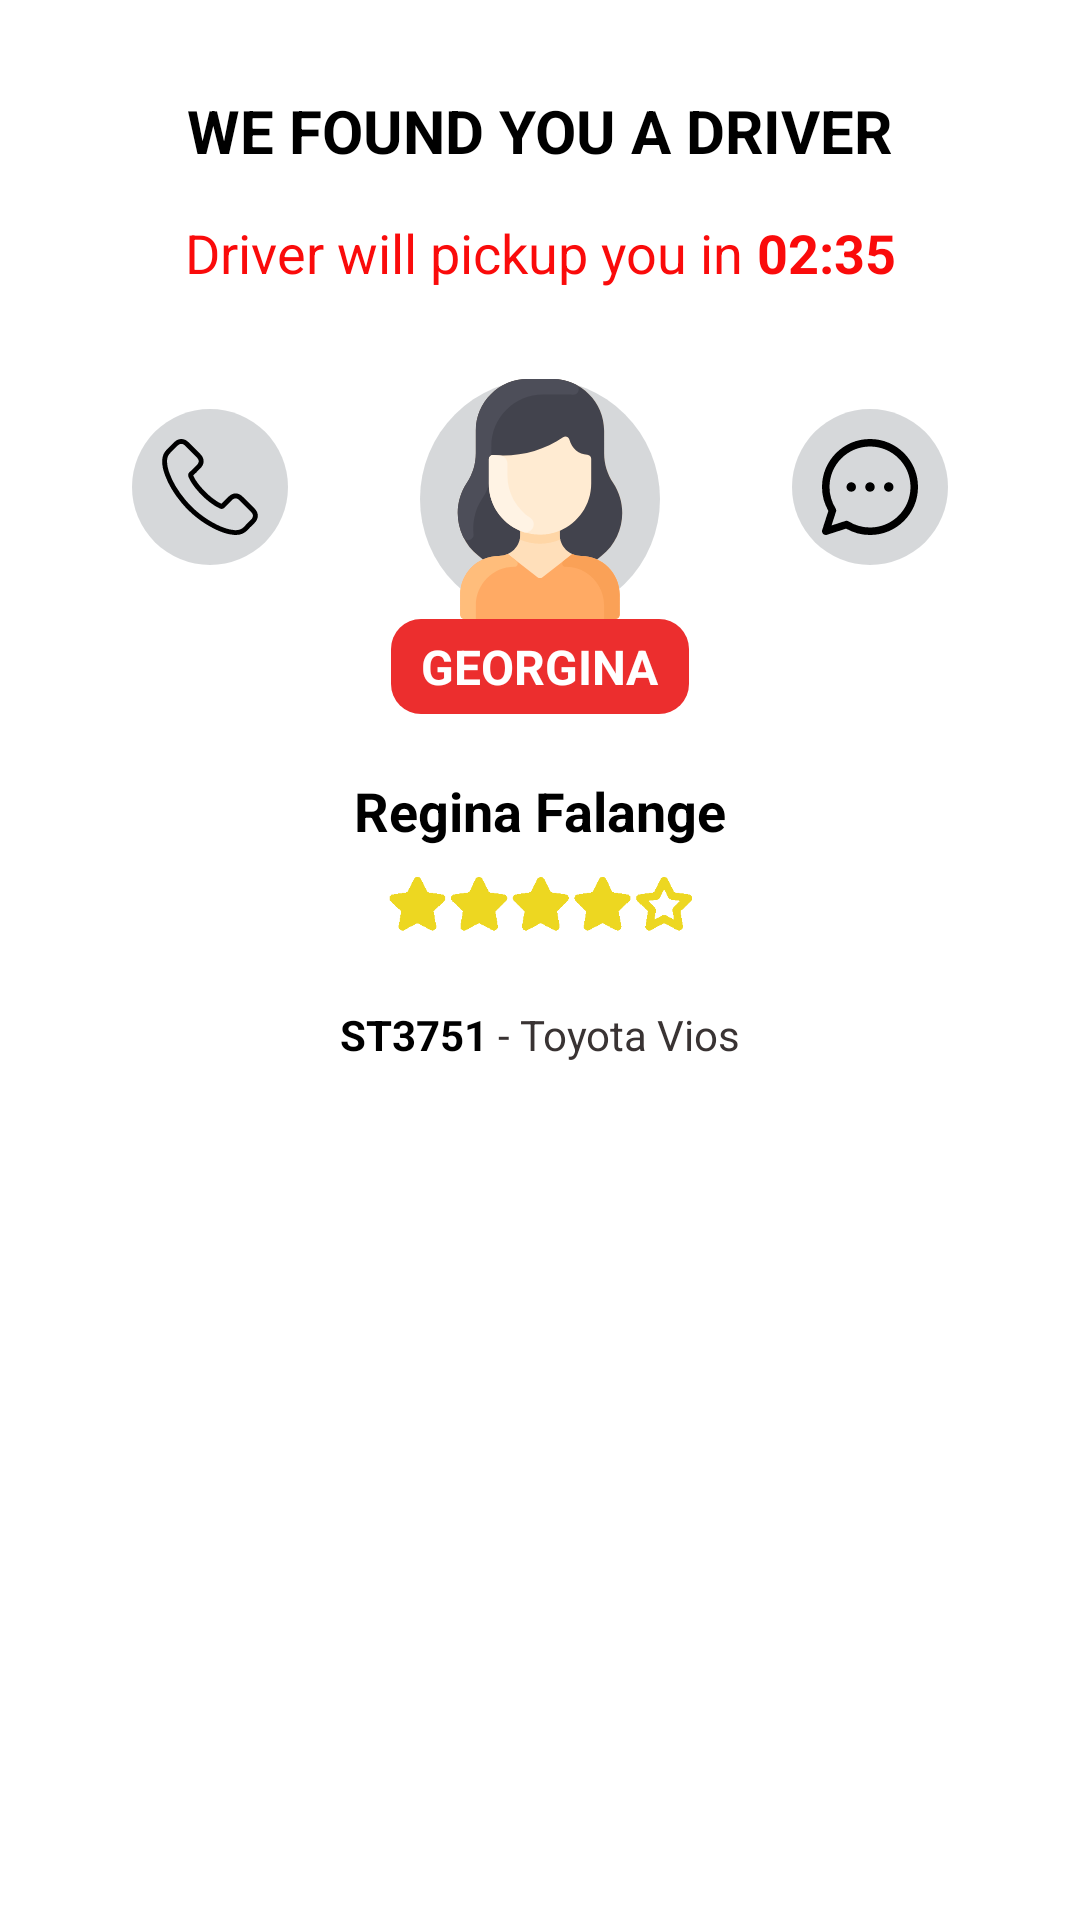

Where icons sit on this 1080w x 1920h app screen, as (x1, y1, x2, y2):
messenger: (792, 409, 948, 565)
rating: (389, 877, 692, 931)
telephone: (132, 409, 288, 565)
woman: (420, 379, 660, 619)
